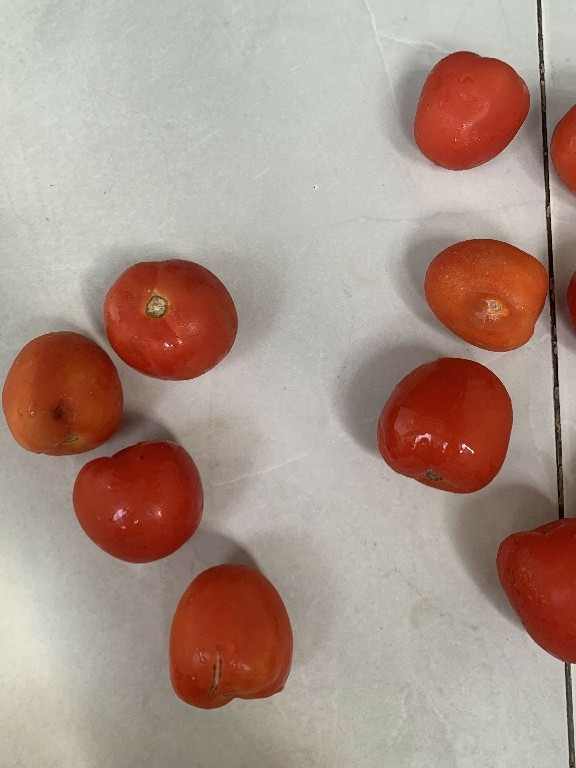NG: (172, 560, 302, 712), (0, 328, 125, 456), (422, 230, 548, 356)
OK: (378, 355, 511, 500), (100, 257, 243, 386), (67, 438, 207, 565), (408, 45, 534, 175), (484, 519, 575, 679)
